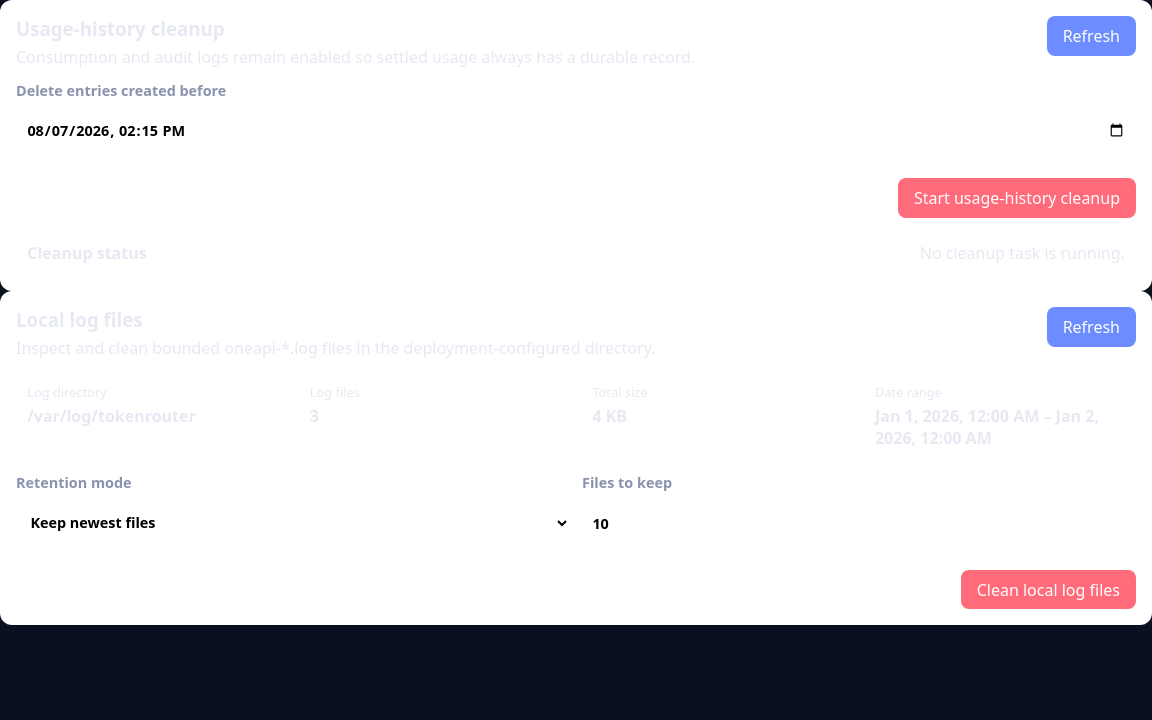
Test: LogMaintenancePanel › validates a past timestamp and confirms durable history cleanup
Expected: the text "/var/log/tokenrouter" is shown, [27, 405, 196, 427]
Replace the text in the field labelled "Delete entries created before" with "2026-01-02T03:04" at (576, 131), box [16, 111, 1136, 150]
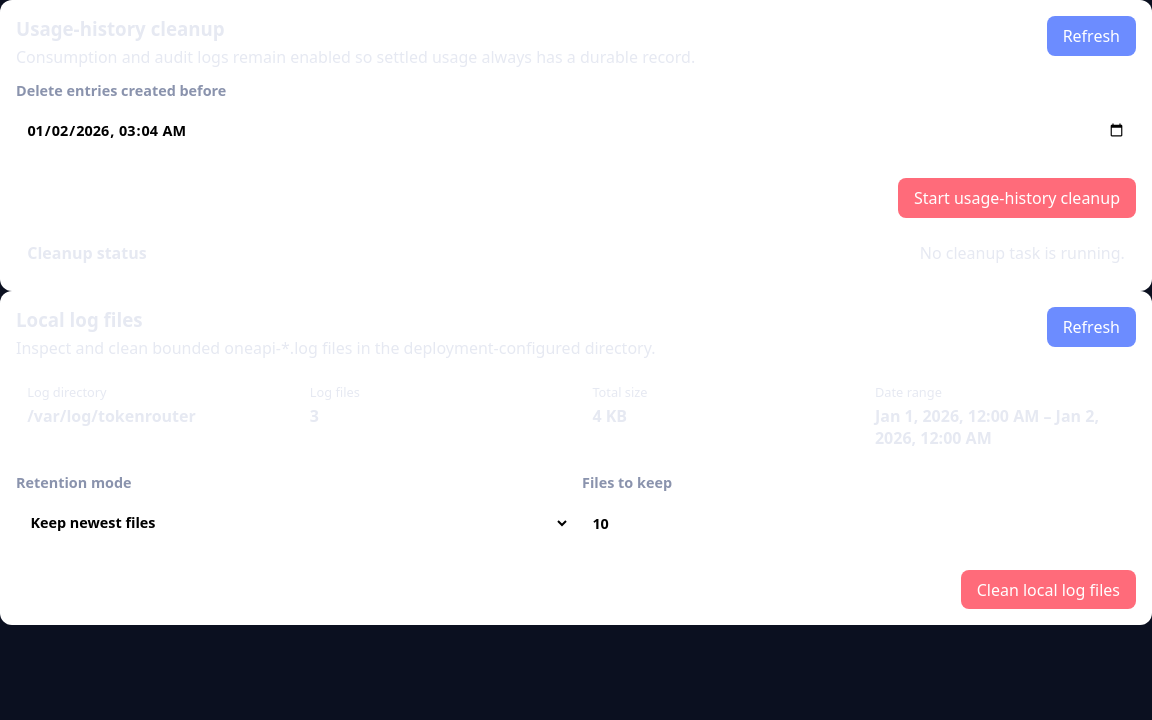
Click the button "Start usage-history cleanup" at (1017, 198), box [898, 178, 1136, 218]
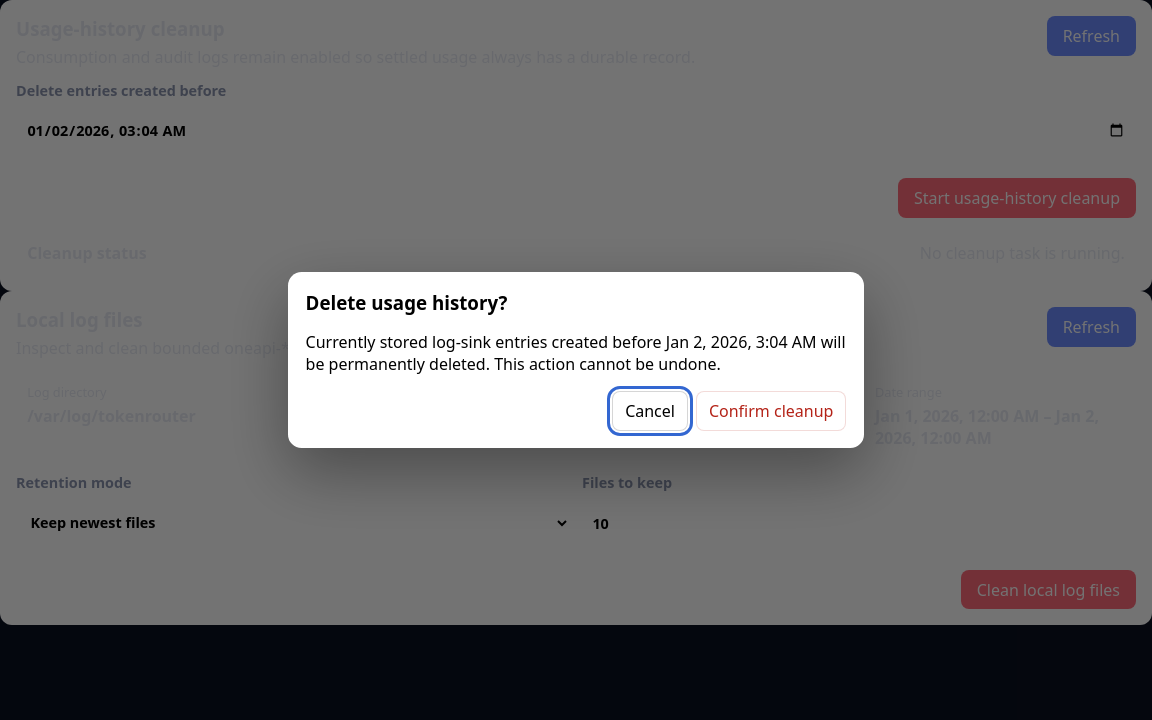
Result: the dialog "Delete usage history?" is shown at [288, 272, 864, 448]
Click the button "Confirm cleanup" at (771, 410), box [696, 390, 846, 430]
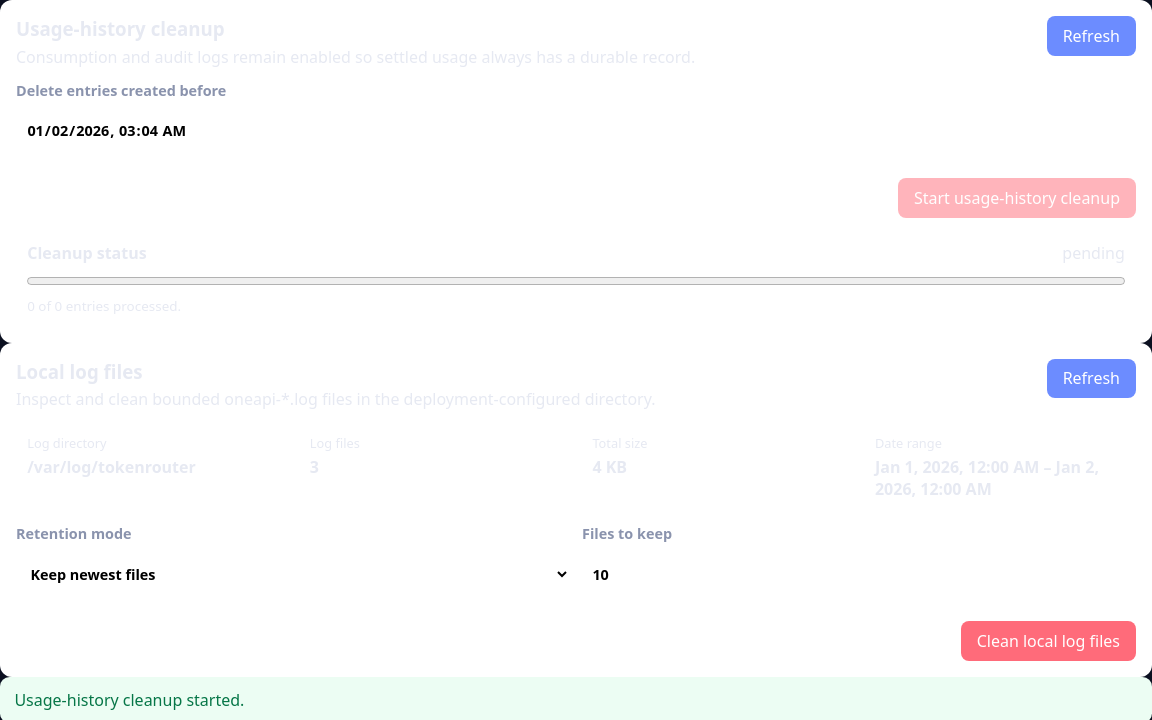
Result: the text "pending" is shown at [1062, 242, 1125, 264]
